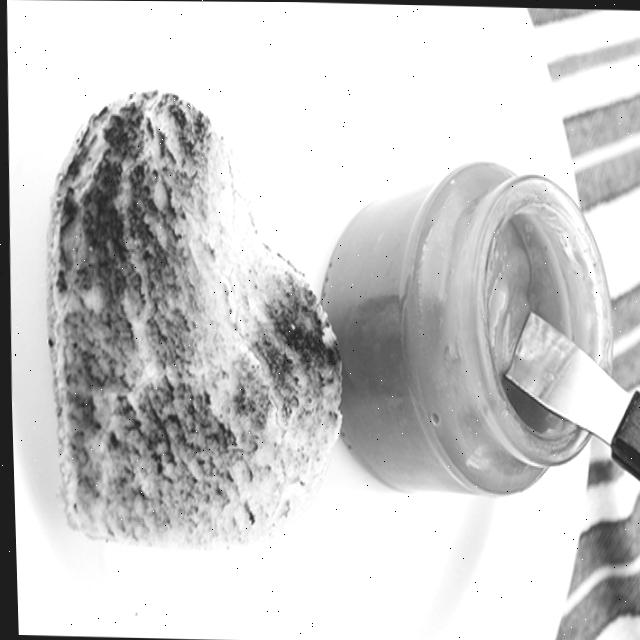面包点心: (17, 0, 609, 632)
